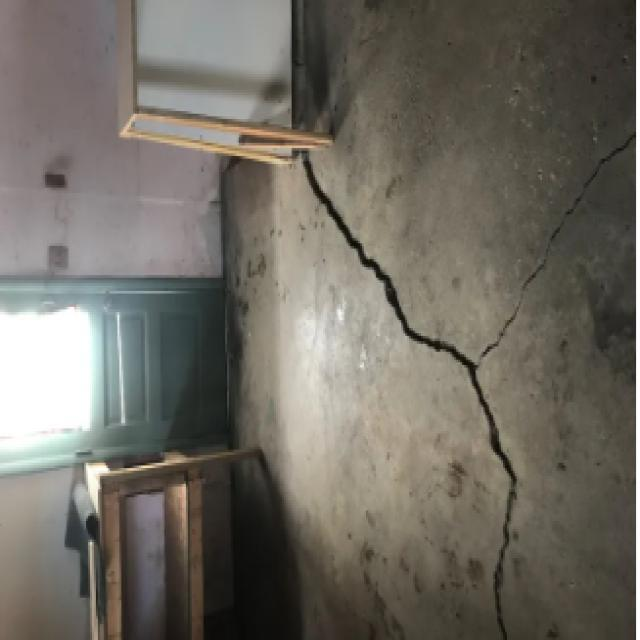branched cracks: (300, 151, 517, 639), (480, 133, 635, 360)
